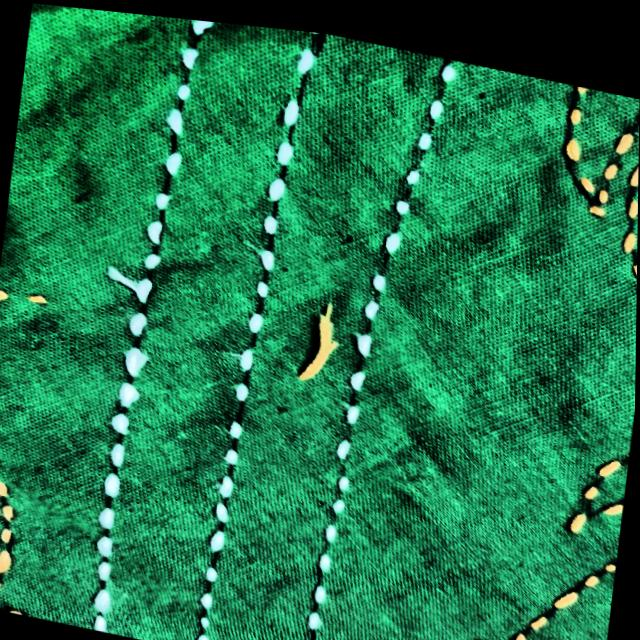Stitch: (298, 281, 350, 385), (87, 252, 166, 308)
